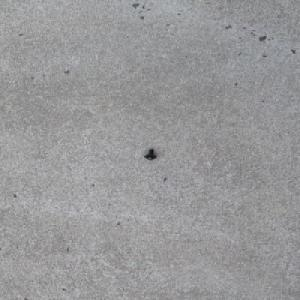BoltWasher: (143, 148, 157, 160)
